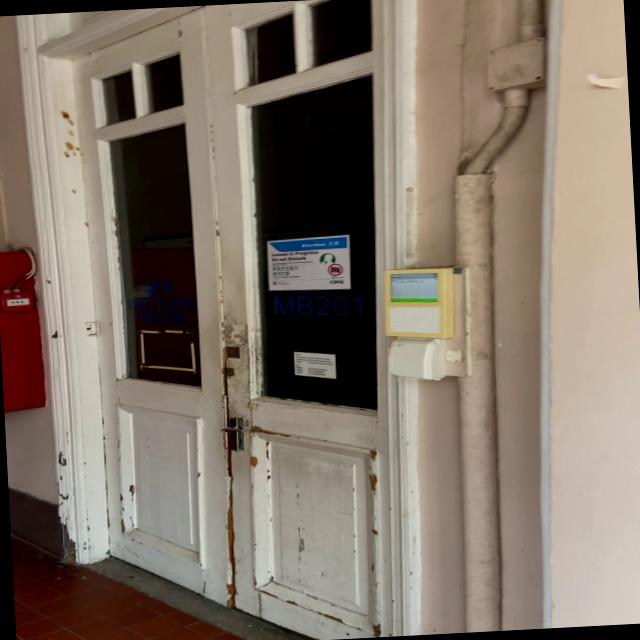room201Window: (266, 289, 369, 324)
